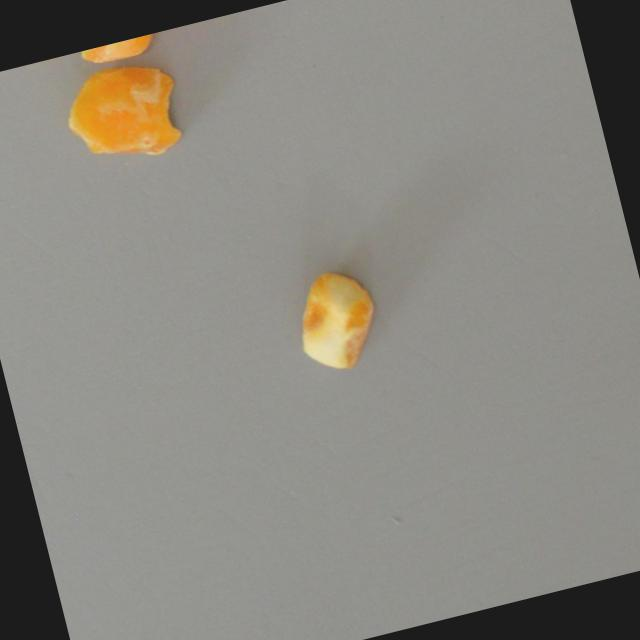pelicula: (53, 50, 193, 175), (284, 260, 389, 376), (66, 31, 161, 73)
